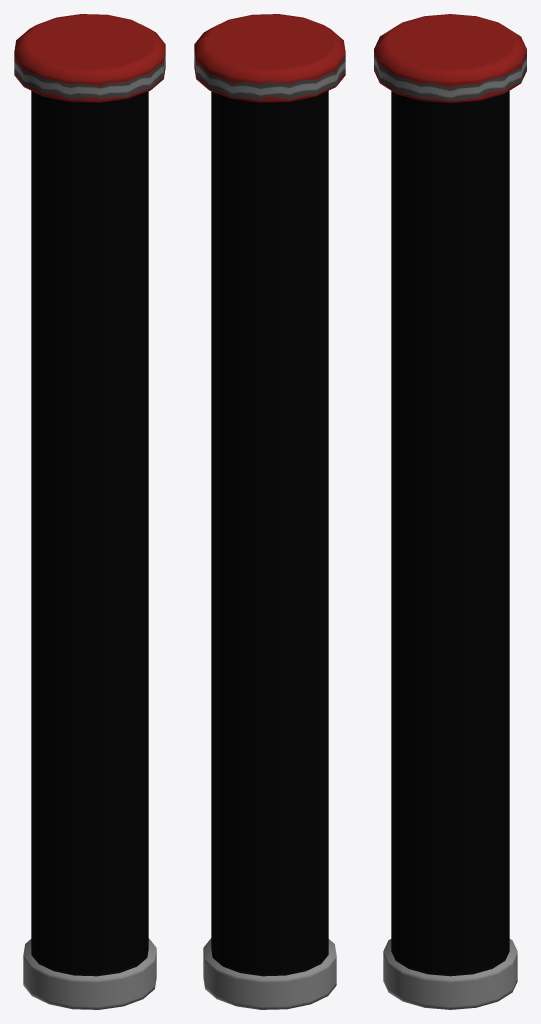
The model's file is Queue_pole.fbx.
3 views of the same model, side by side, from view 1: azimuth 30°, elevation 25°; view 2: azimuth 150°, elevation 25°; view 3: azimuth 270°, elevation 25° (orthographic).
Visible parts, largest first — view 1: Queue_pole; view 2: Queue_pole; view 3: Queue_pole.
Boxes of the visible parts, x1=… form: Queue_pole: x1=14, y1=14, x2=165, y2=1009; Queue_pole: x1=194, y1=14, x2=345, y2=1009; Queue_pole: x1=374, y1=14, x2=526, y2=1009.
Size of the model in its own units: 136 by 920 by 136.
